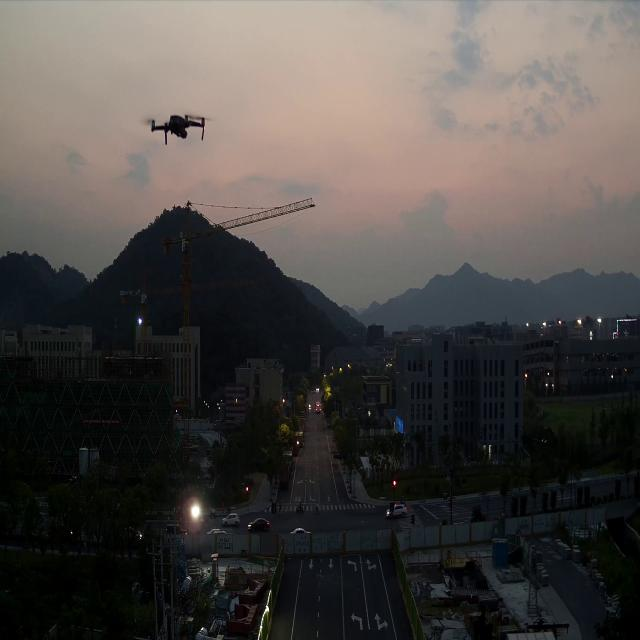UAV: (150, 112, 207, 148)
